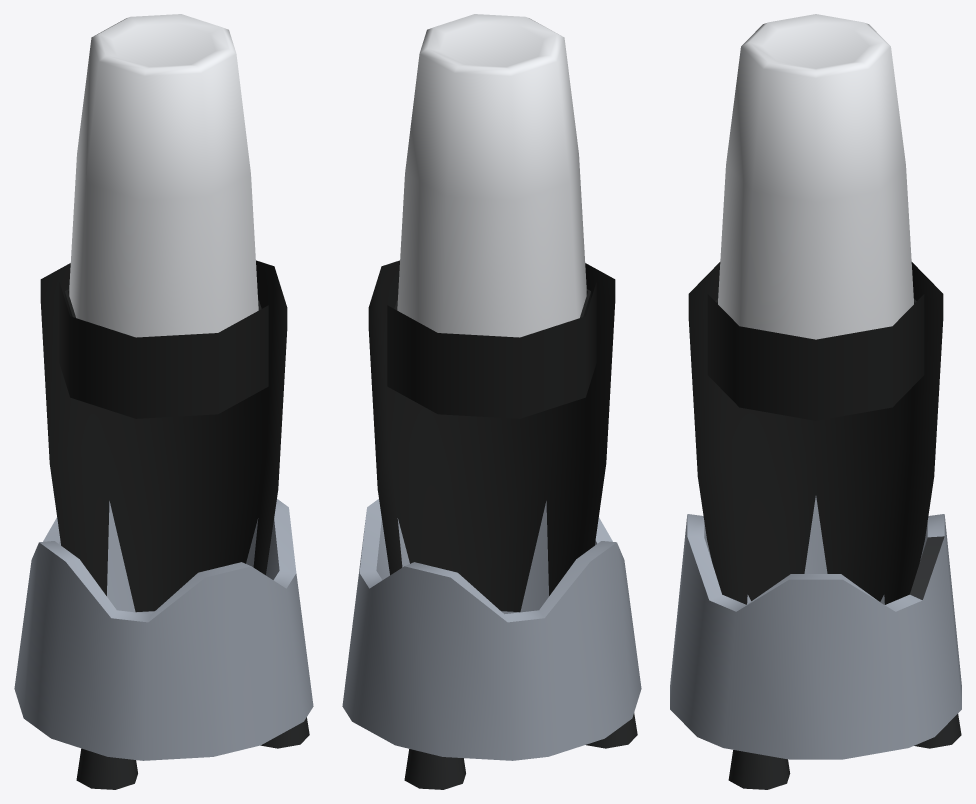
The model's file is Bullet_Blender.glb.
3 views of the same model, side by side, from view 1: azimuth 30°, elevation 25°; view 2: azimuth 150°, elevation 25°; view 3: azimuth 270°, elevation 25° (orthographic).
Visible parts, largest first — view 1: appliance_blender_bullet.001_Cylinder.132, appliance_blender_bullet_container_Cylinder.133; view 2: appliance_blender_bullet.001_Cylinder.132, appliance_blender_bullet_container_Cylinder.133; view 3: appliance_blender_bullet.001_Cylinder.132, appliance_blender_bullet_container_Cylinder.133.
Boxes of the visible parts, x1=… form: appliance_blender_bullet.001_Cylinder.132: x1=14, y1=260, x2=313, y2=789; appliance_blender_bullet_container_Cylinder.133: x1=69, y1=14, x2=258, y2=337; appliance_blender_bullet.001_Cylinder.132: x1=342, y1=260, x2=641, y2=789; appliance_blender_bullet_container_Cylinder.133: x1=397, y1=14, x2=586, y2=337; appliance_blender_bullet.001_Cylinder.132: x1=670, y1=262, x2=961, y2=789; appliance_blender_bullet_container_Cylinder.133: x1=718, y1=14, x2=913, y2=339.
Size of the model in its own units: 2.15 by 5.63 by 2.15.
2 materials, 2 textured.
